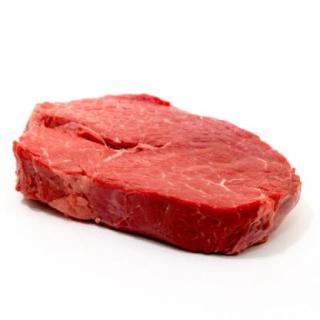Daging Sapi: (16, 96, 305, 257)
